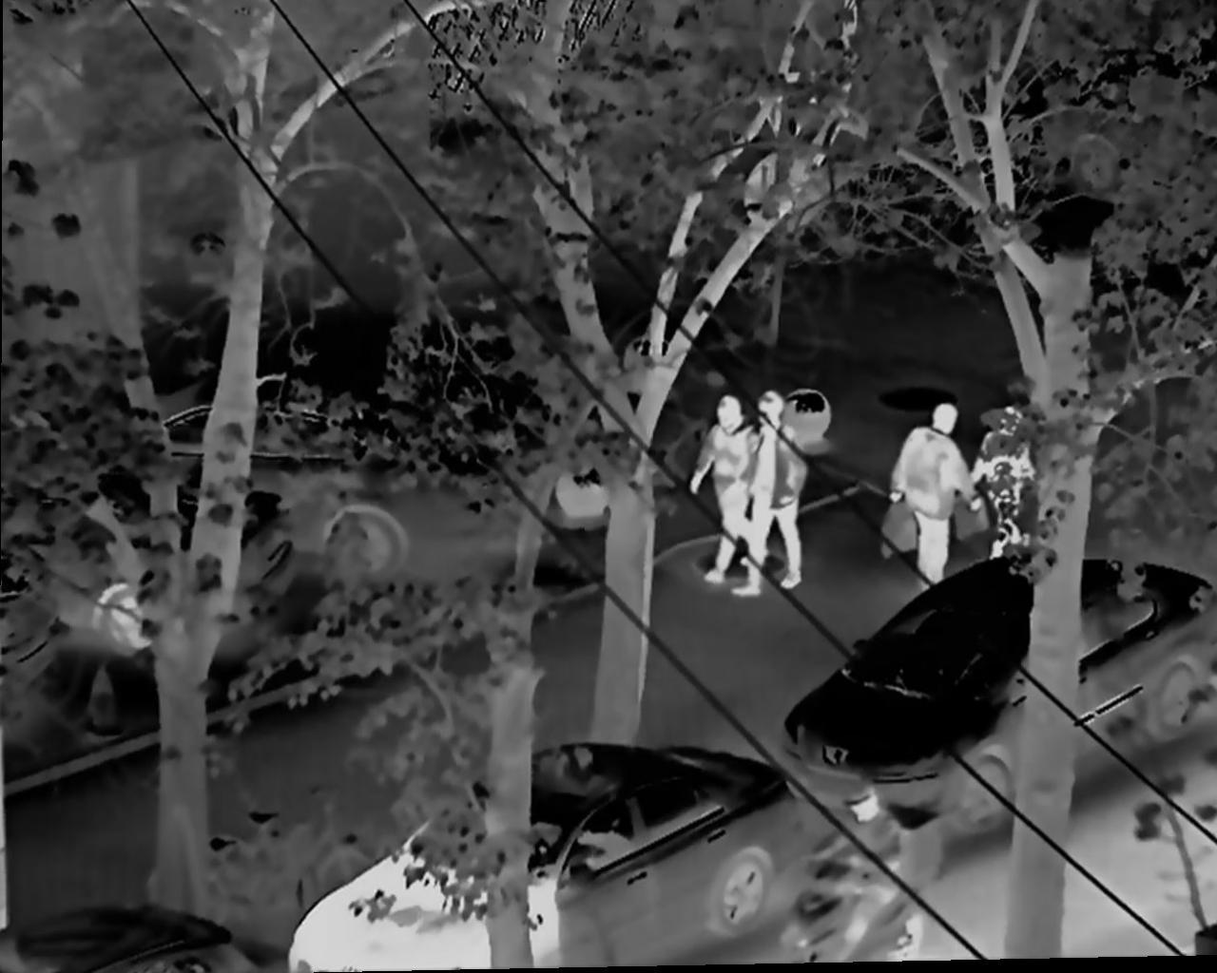person: (885, 396, 966, 595), (819, 788, 909, 945), (692, 389, 763, 585), (742, 391, 807, 595), (976, 403, 1031, 564)
